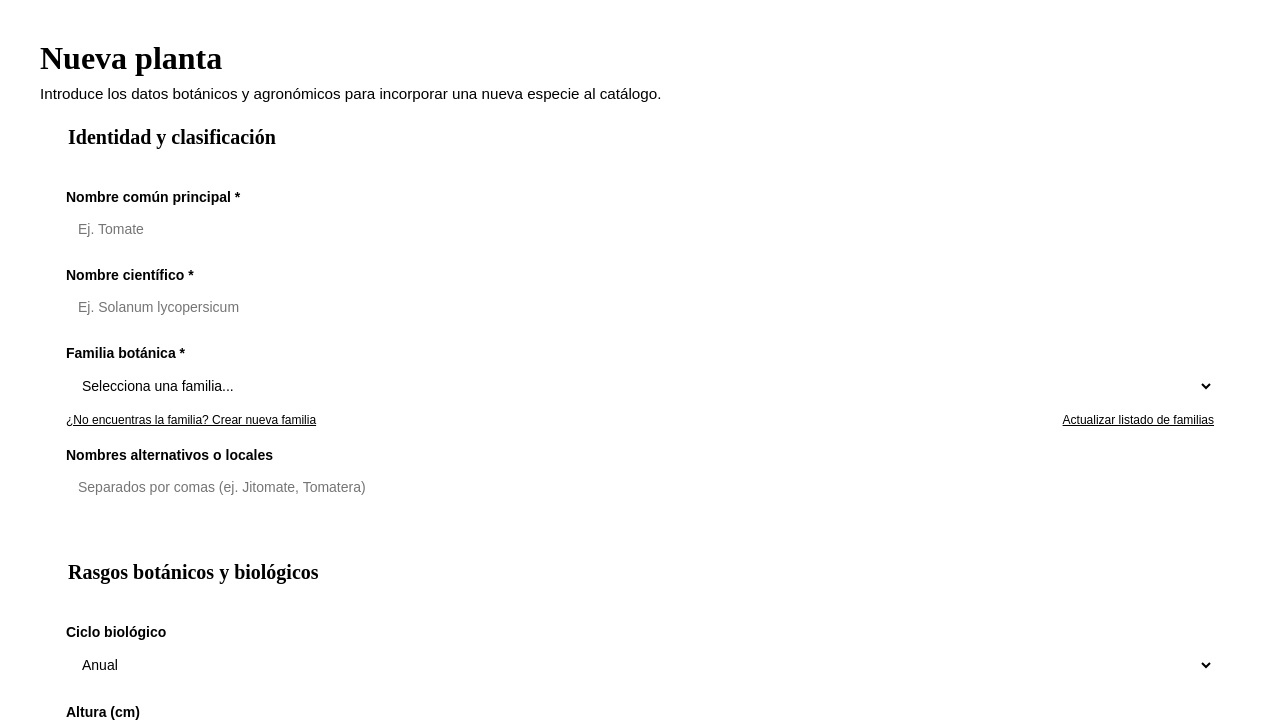
Test: PlantCreatePage › keeps form open when user cancels confirmation modal
In the field labelled "Nombre común principal *": (652, 229) top-left (66, 211), bottom-right (1238, 247), type "Tomatera"
(page scrolled)
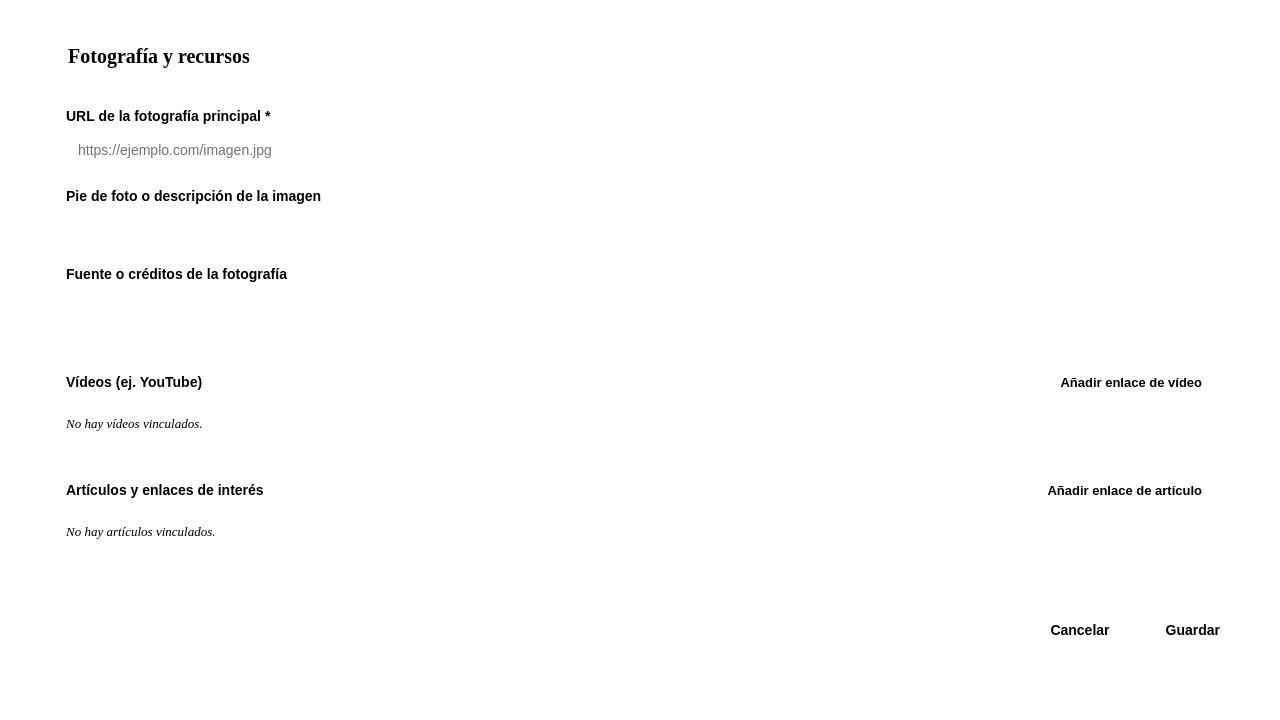
Click the button "Cancelar": click(1080, 630) top-left (1030, 612), bottom-right (1130, 648)
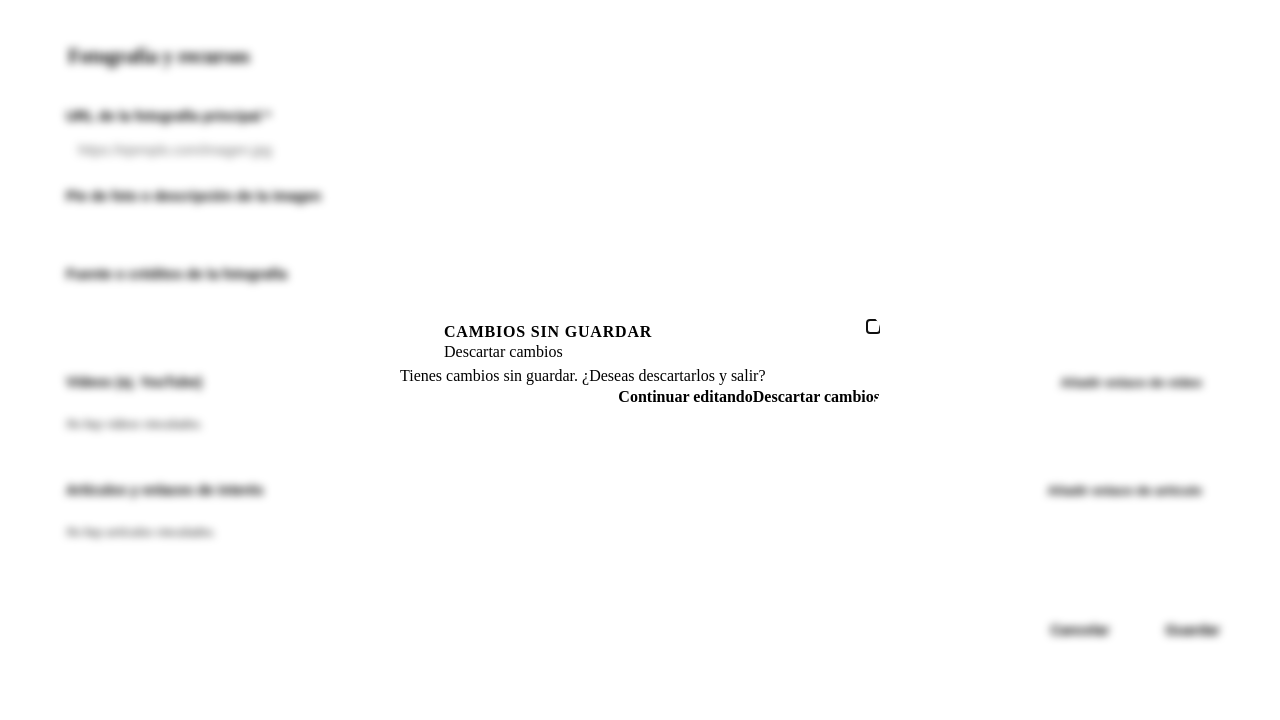
Click the button "Continuar editando": click(686, 397) top-left (618, 388), bottom-right (753, 406)
(page scrolled)
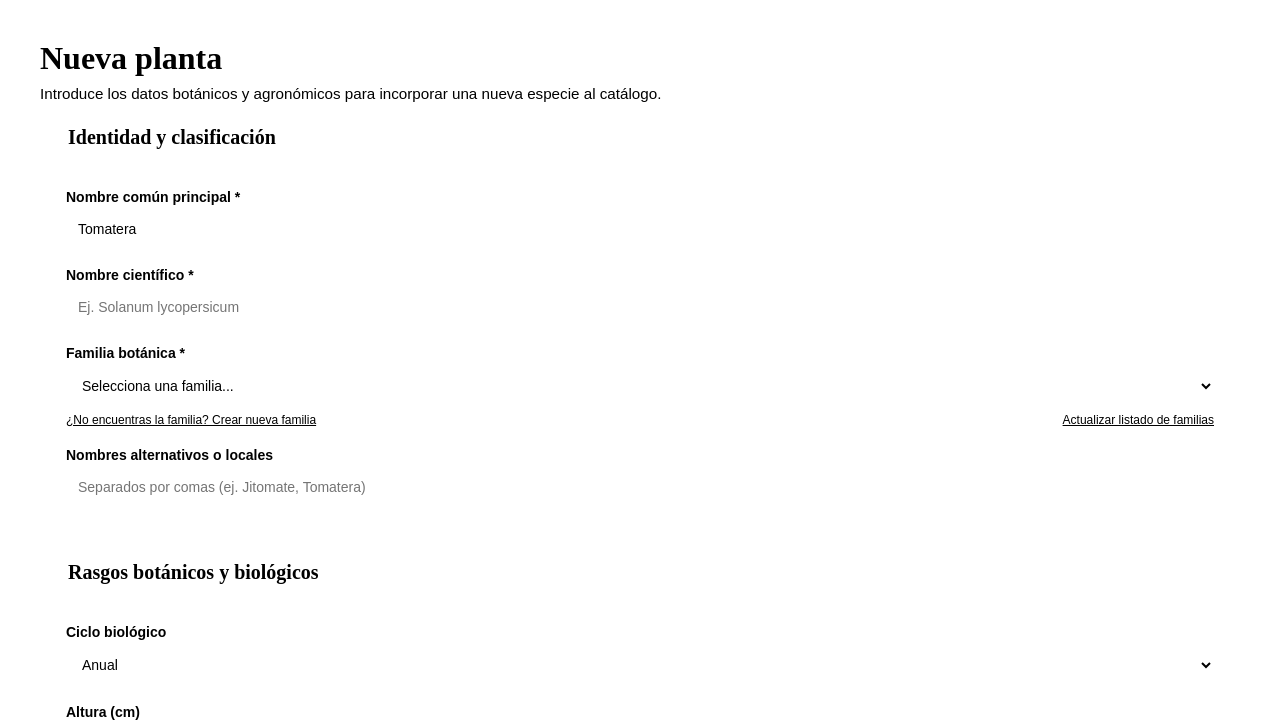
expect the dialog is gone: met
